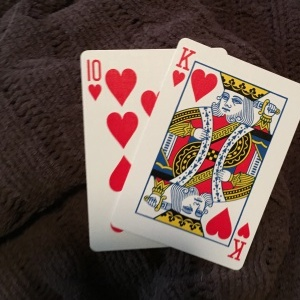card: (74, 48, 172, 252)
